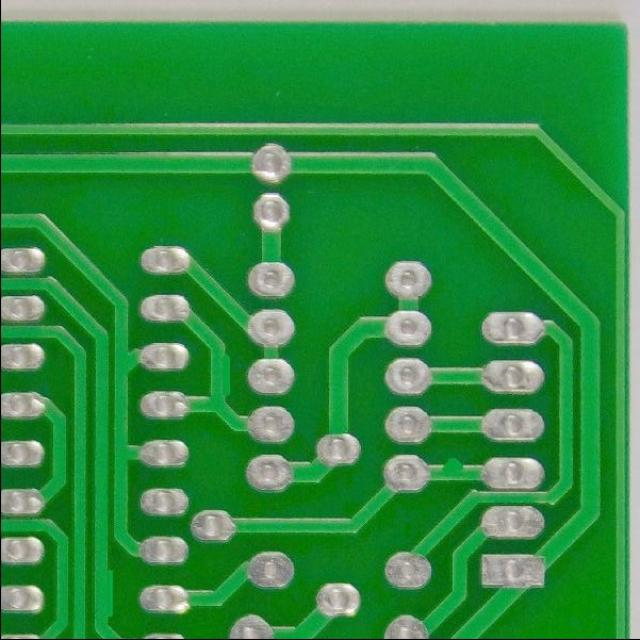spur: (90, 556, 120, 629), (204, 352, 236, 404), (438, 454, 468, 480)
